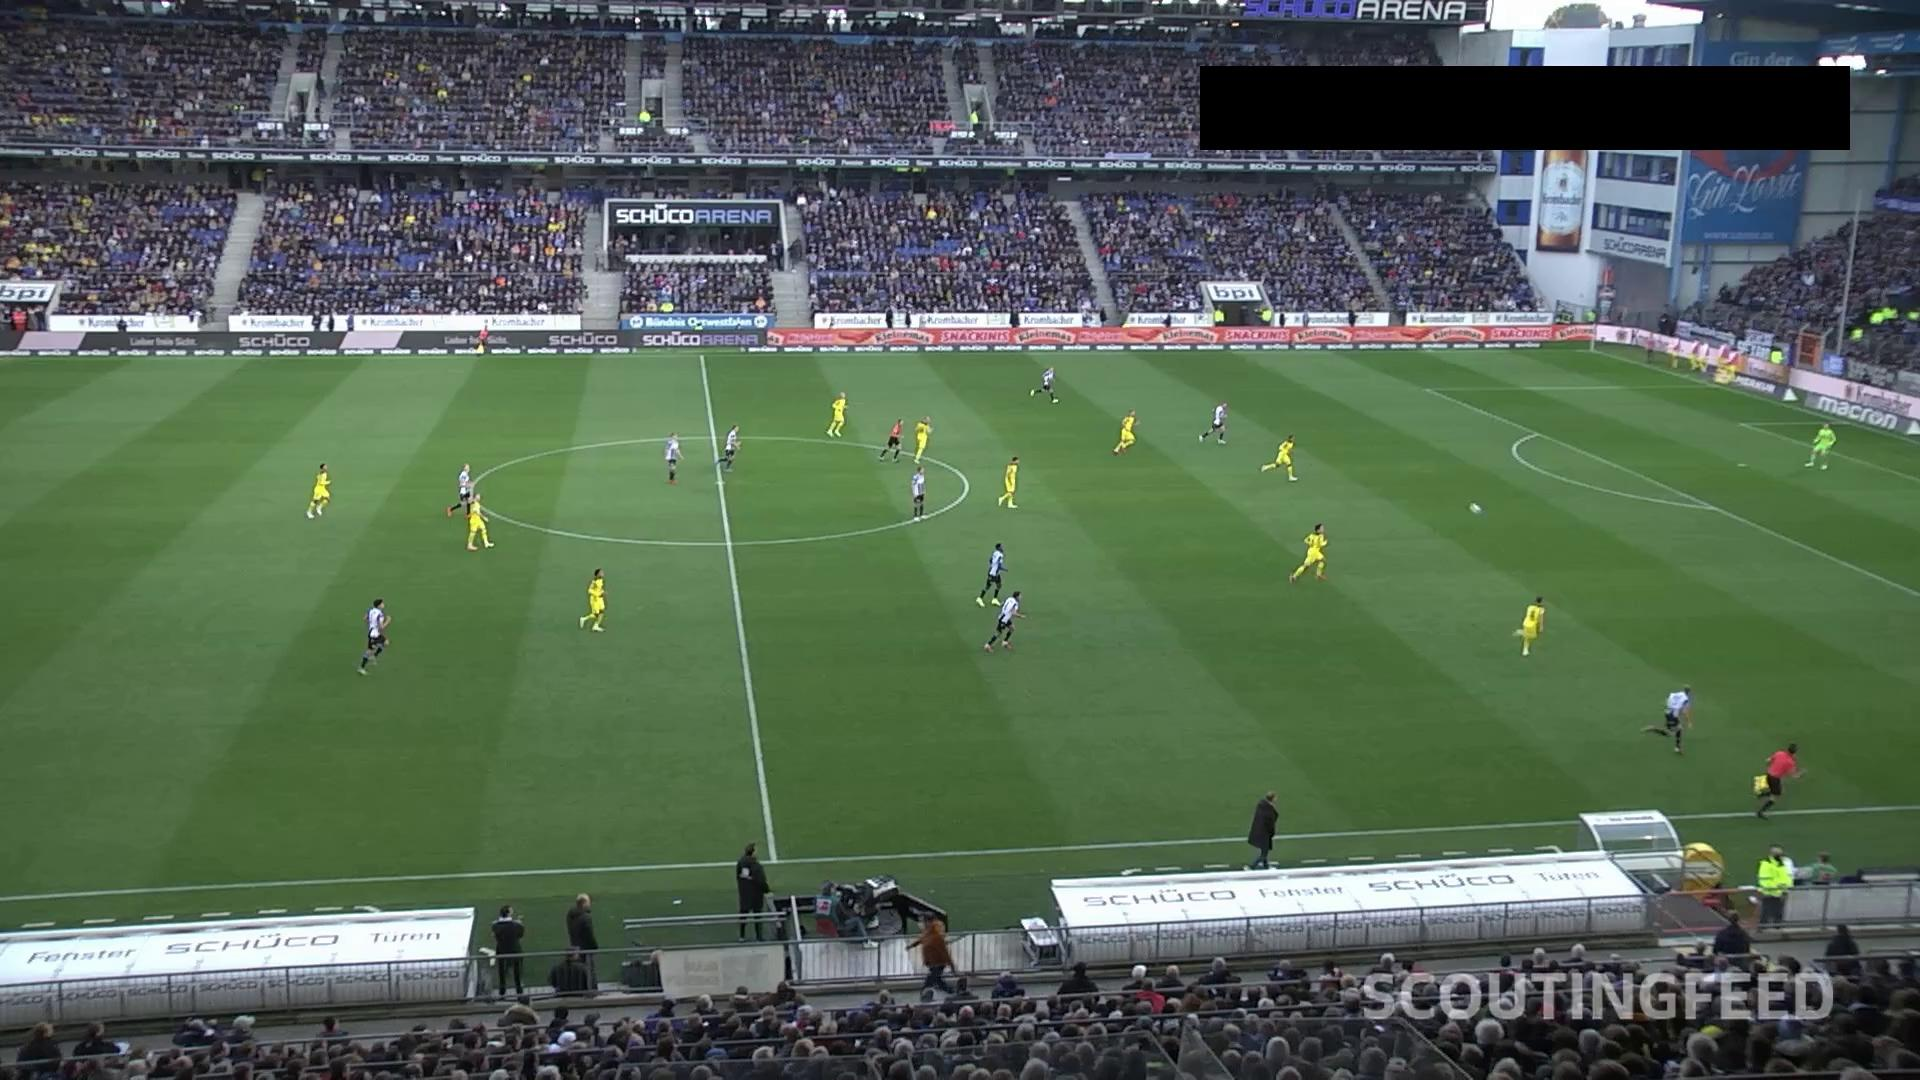Location-of-ball: (1460, 488, 1494, 524)
